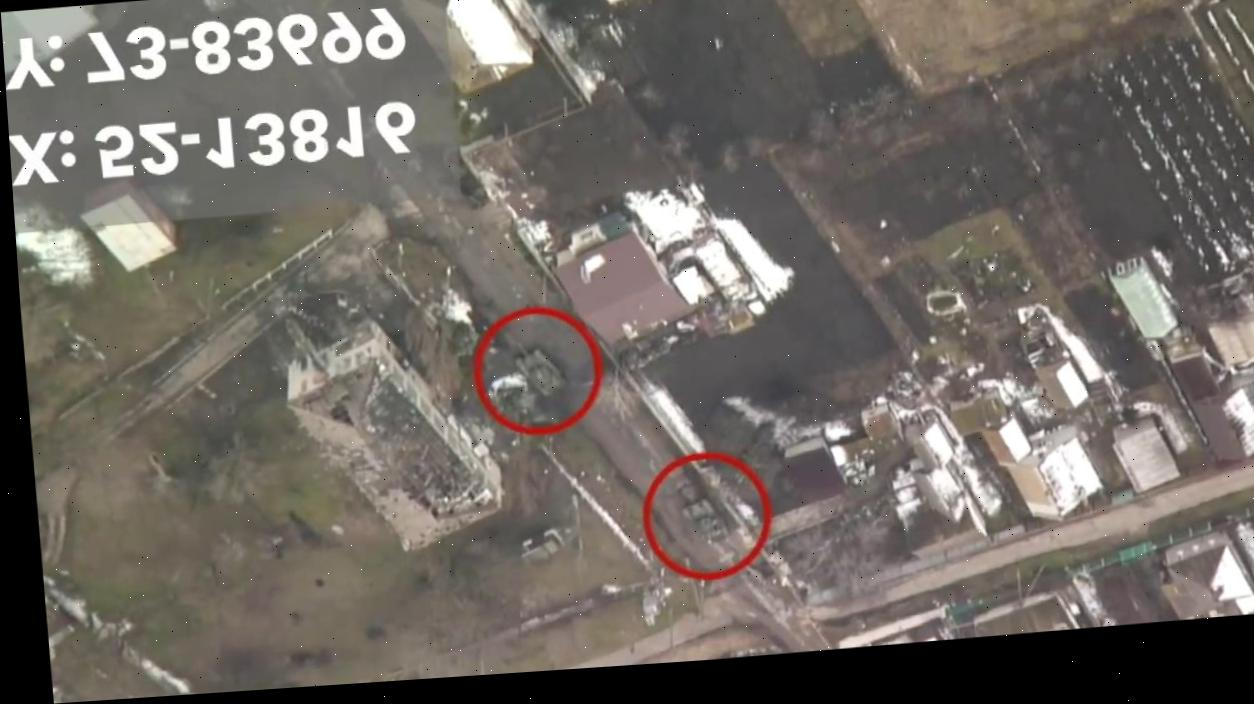tank: (511, 334, 571, 398), (680, 493, 730, 548)
